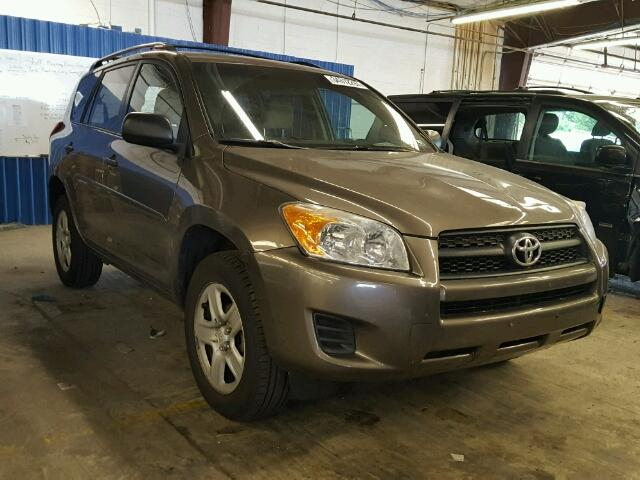Toyota RAV-4: (46, 41, 609, 423)
